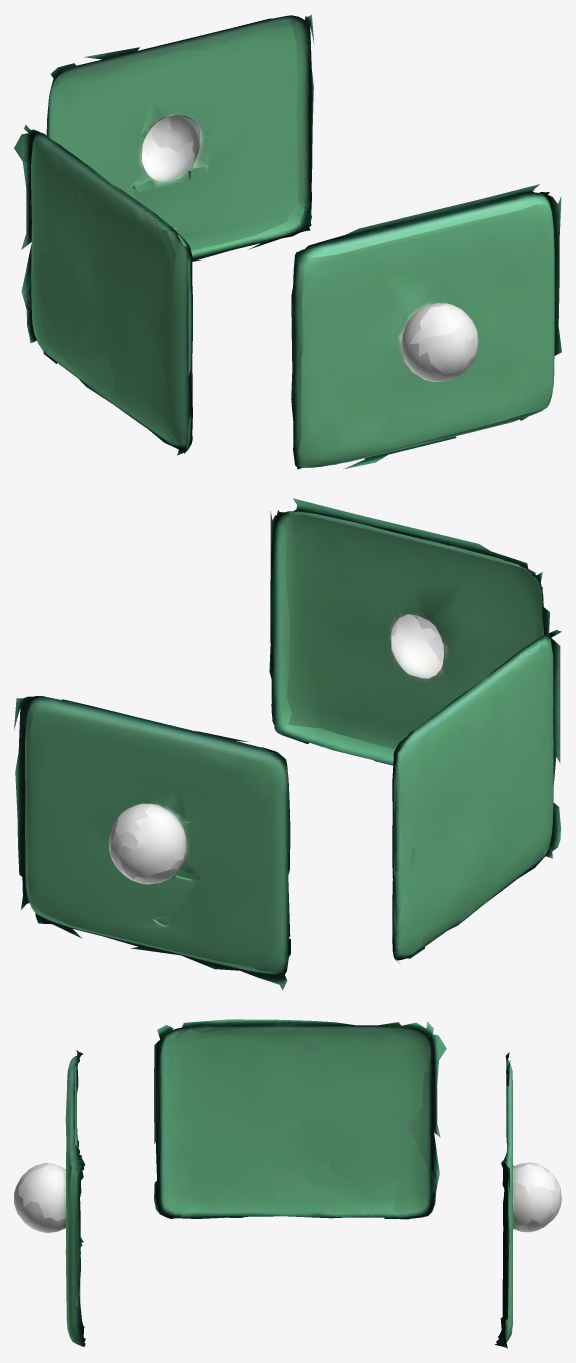
The model's file is drawer_middle_left.glb.
3 views of the same model, one above another, from view 1: azimuth 30°, elevation 25°; view 2: azimuth 150°, elevation 25°; view 3: azimuth 270°, elevation 25° (orthographic). The views are drawn at different scales.
Parts seen in each view (by area): view 1: geometry_0; view 2: geometry_0; view 3: geometry_0.
Boxes of the visible parts, bbox=[...] form: geometry_0: bbox=[14, 14, 561, 469]; geometry_0: bbox=[14, 498, 561, 990]; geometry_0: bbox=[14, 1019, 561, 1348].
Size of the model in its own units: 0.1216 by 0.0822 by 0.1956.
Materials: 1 (1 with a texture image).
